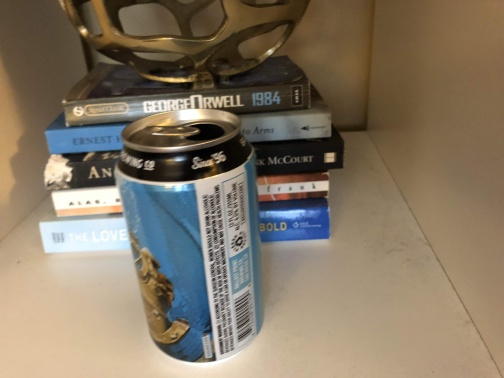can: (111, 105, 268, 365)
